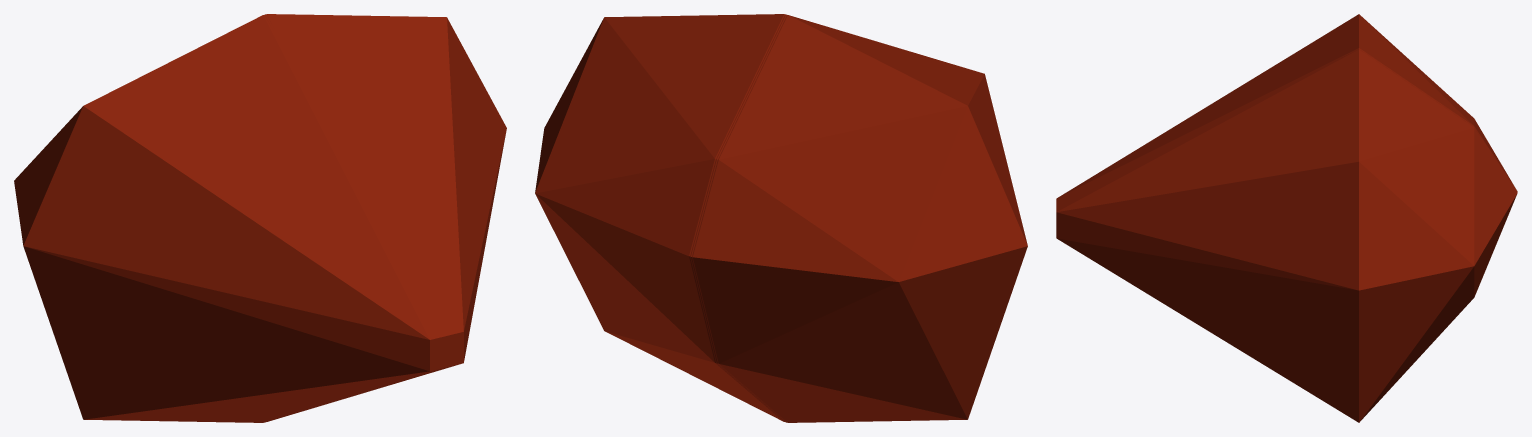
The model's file is gfx_0.obj.
3 renders of one model, left to right at view 1: azimuth 30°, elevation 25°; view 2: azimuth 150°, elevation 25°; view 3: azimuth 270°, elevation 25°, orthographic. The views are drawn at different scales.
Bounding box in the file's own units: 2.02 × 1.62 × 2.
